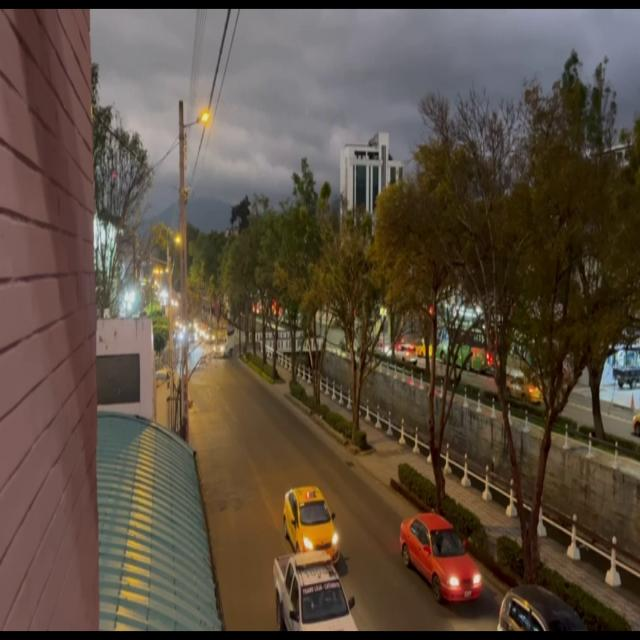CMT: (274, 553, 356, 633)
SED: (400, 513, 484, 606), (284, 486, 341, 564), (498, 584, 586, 631)
